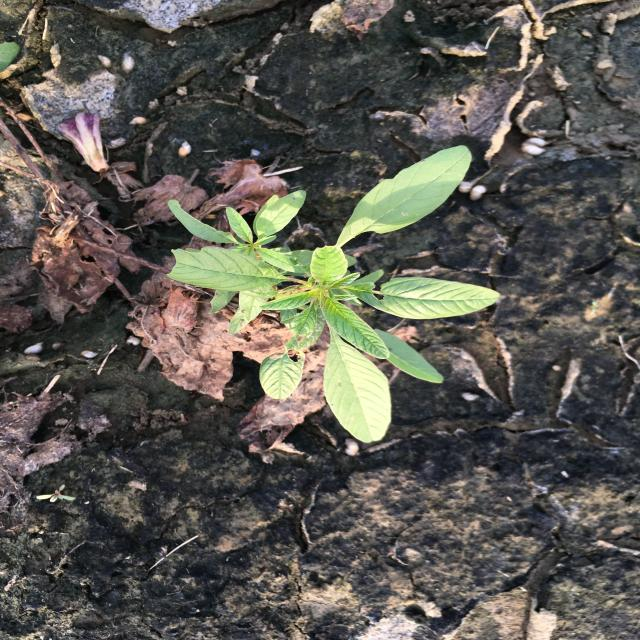Waterhemp: (164, 143, 502, 446)
